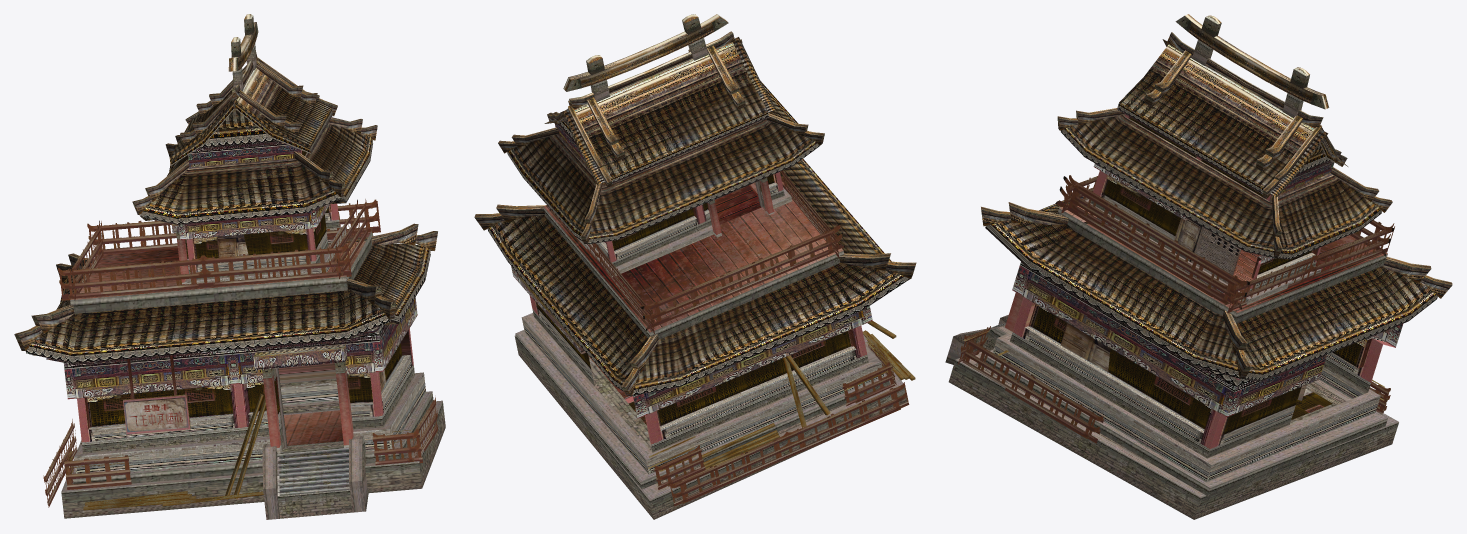
File: china_boatbuilding.fbx
3 renders of one model, left to right at view 1: azimuth 30°, elevation 25°; view 2: azimuth 150°, elevation 25°; view 3: azimuth 270°, elevation 25°, orthographic. The views are drawn at different scales.
Parts seen in each view (by area): view 1: Object01, Object02; view 2: Object01, Object02; view 3: Object01, Object02.
Boxes of the visible parts, x1,y1,x2,y2 form: Object01: [14, 14, 445, 519]; Object02: [218, 231, 386, 447]; Object01: [474, 14, 916, 519]; Object02: [544, 185, 761, 273]; Object01: [945, 14, 1452, 519]; Object02: [1061, 217, 1316, 405].
Size of the model in its own units: 13.88 by 14.09 by 13.87.
1 material, 1 textured.
